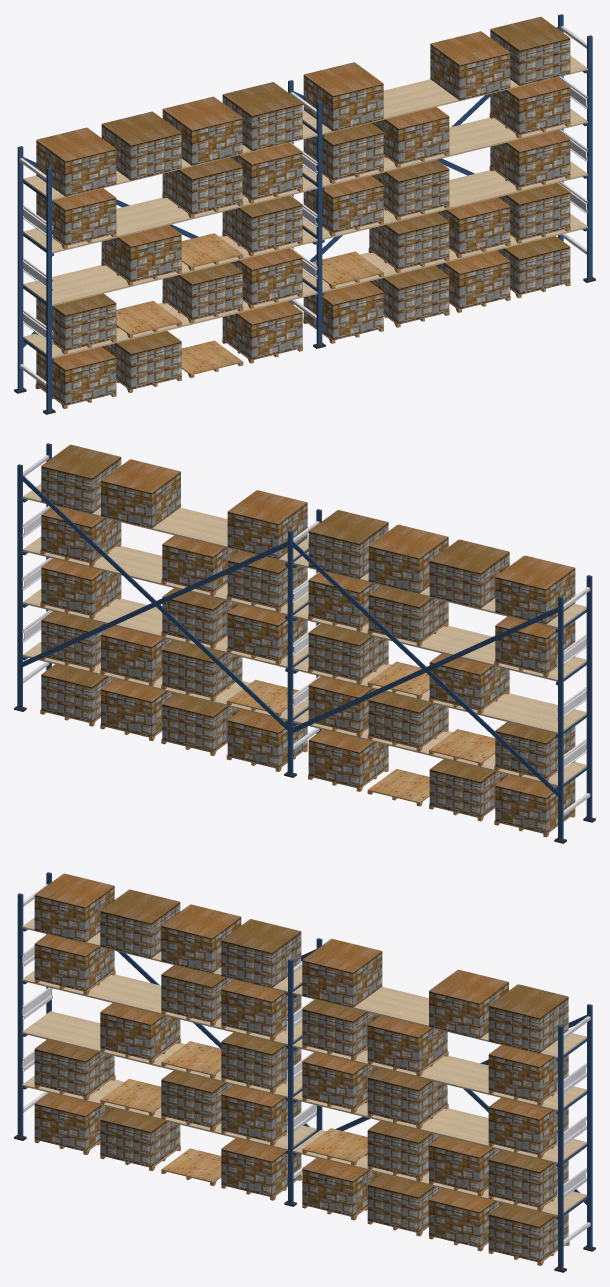
The model's file is BigShelves02Group4.glb.
3 renders of one model, top to bottom at view 1: azimuth 30°, elevation 25°; view 2: azimuth 150°, elevation 25°; view 3: azimuth 330°, elevation 25°, orthographic.
Parts seen in each view (by area): view 1: Box_Pallet01, BigShelves02, BigShelvesWoodBox; view 2: Box_Pallet01, BigShelves02, BigShelvesWoodBox; view 3: Box_Pallet01, BigShelves02, BigShelvesWoodBox.
Part boxes in pixels (bbox=[...]): Box_Pallet01: bbox=[36, 16, 570, 405]; BigShelves02: bbox=[14, 14, 595, 414]; BigShelvesWoodBox: bbox=[35, 113, 570, 408]; Box_Pallet01: bbox=[41, 444, 575, 833]; BigShelves02: bbox=[14, 443, 595, 843]; BigShelvesWoodBox: bbox=[40, 542, 575, 837]; Box_Pallet01: bbox=[34, 873, 568, 1261]; BigShelves02: bbox=[14, 872, 595, 1272]; BigShelvesWoodBox: bbox=[34, 970, 569, 1265].
Size of the model in its own units: 17.75 by 7.66 by 1.81.
7 materials, 7 textured.
